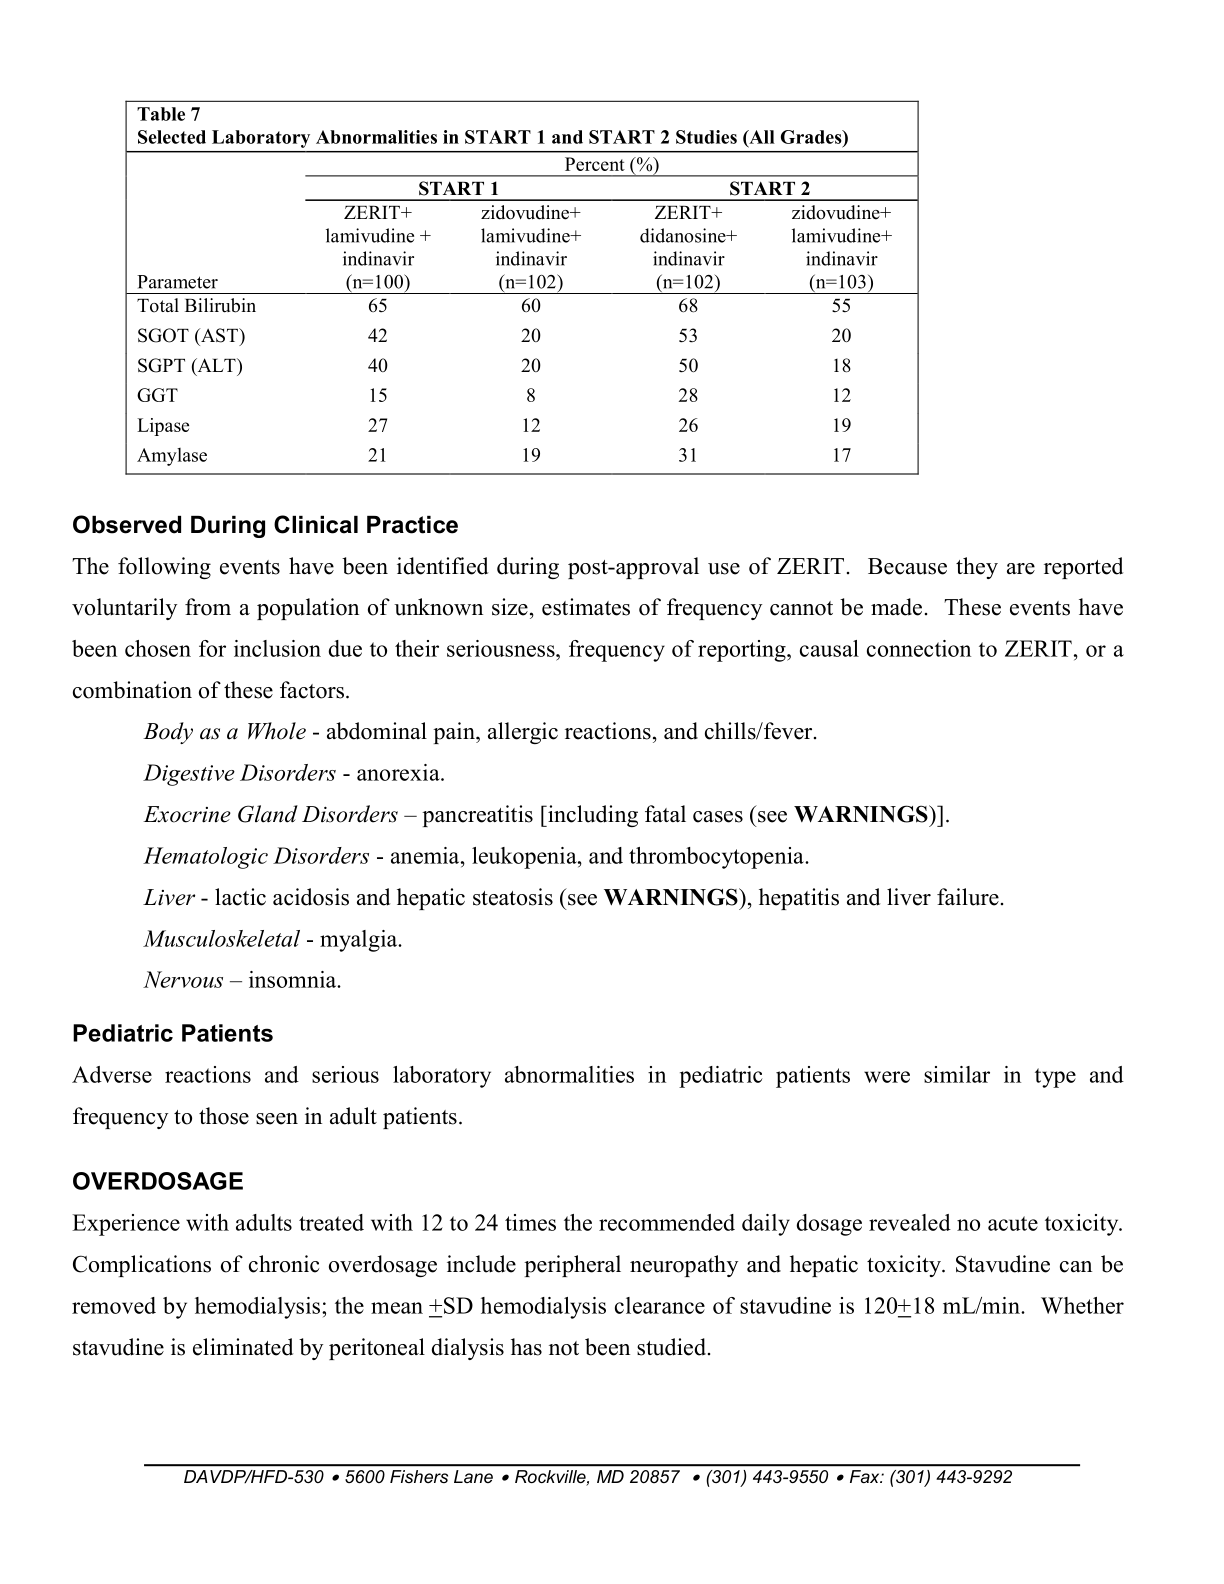partial_lined_merged_cells: (125, 100, 919, 476)
